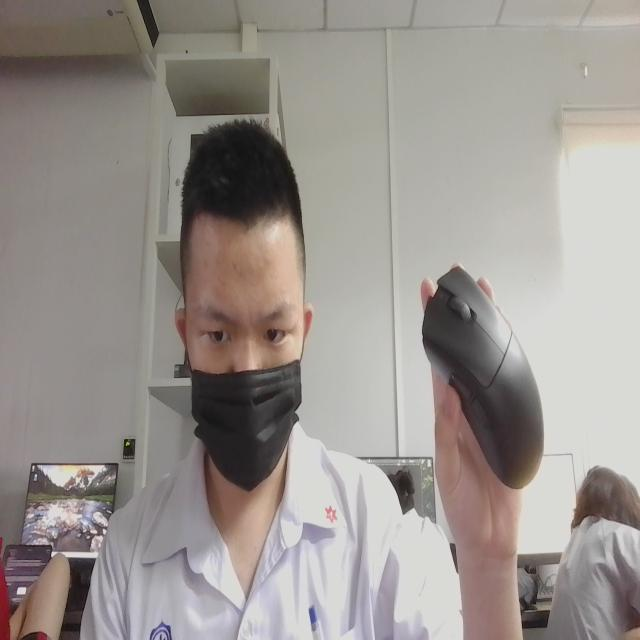mouse: (402, 248, 554, 509)
